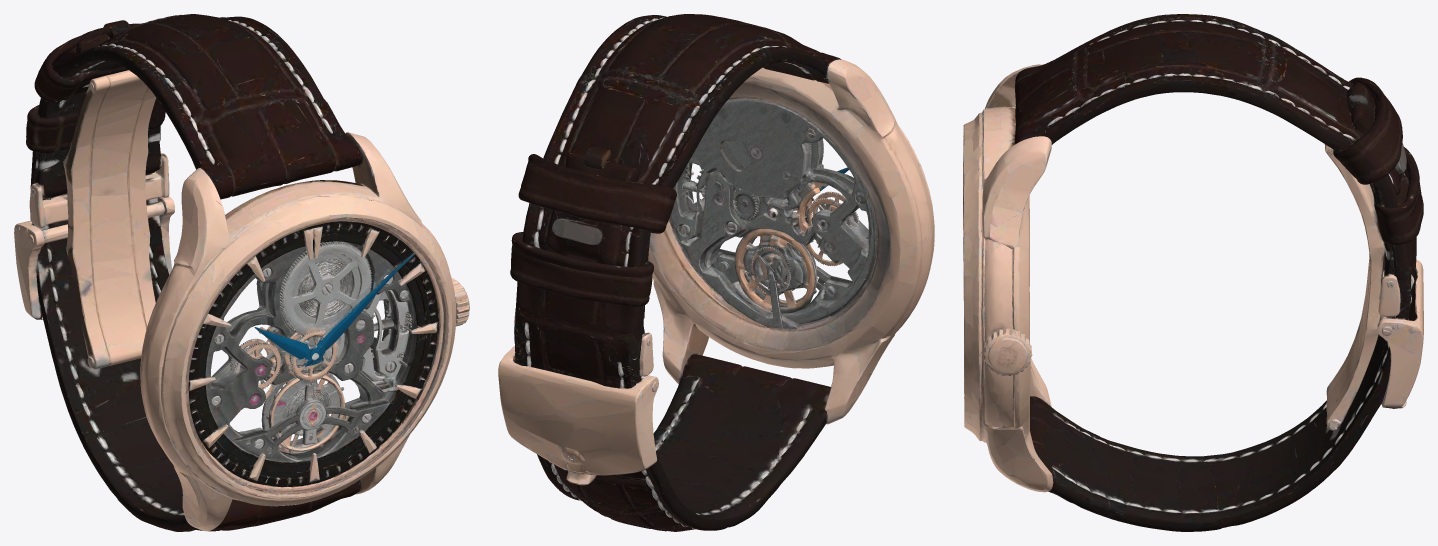
File: watch.glb
3 renders of one model, left to right at view 1: azimuth 30°, elevation 25°; view 2: azimuth 150°, elevation 25°; view 3: azimuth 270°, elevation 25°, orthographic.
Visible parts, largest first — view 1: Mesh_0; view 2: Mesh_0; view 3: Mesh_0.
Part boxes in pixels (box(x1,y1,x2,y2)): Mesh_0: box(14, 14, 469, 531); Mesh_0: box(498, 14, 934, 531); Mesh_0: box(963, 14, 1423, 531).
Size of the model in its own units: 1.33 by 1.9 by 1.68.
1 material, 1 textured.
